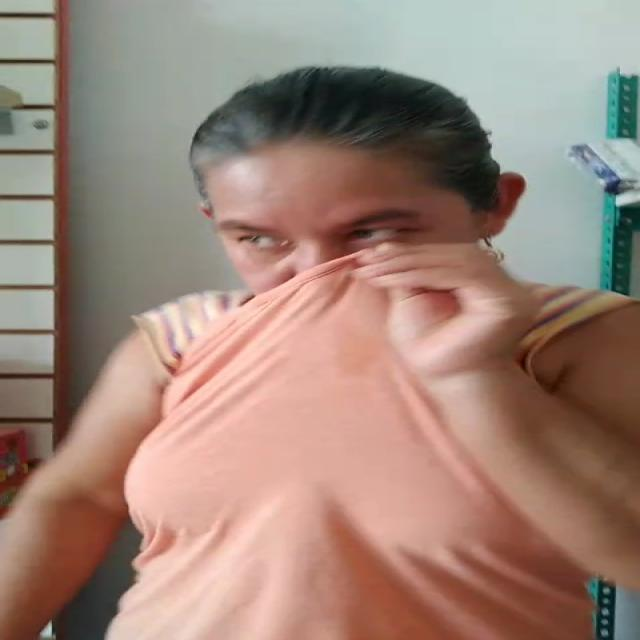8_ropa_rostro: (211, 252, 509, 376)
